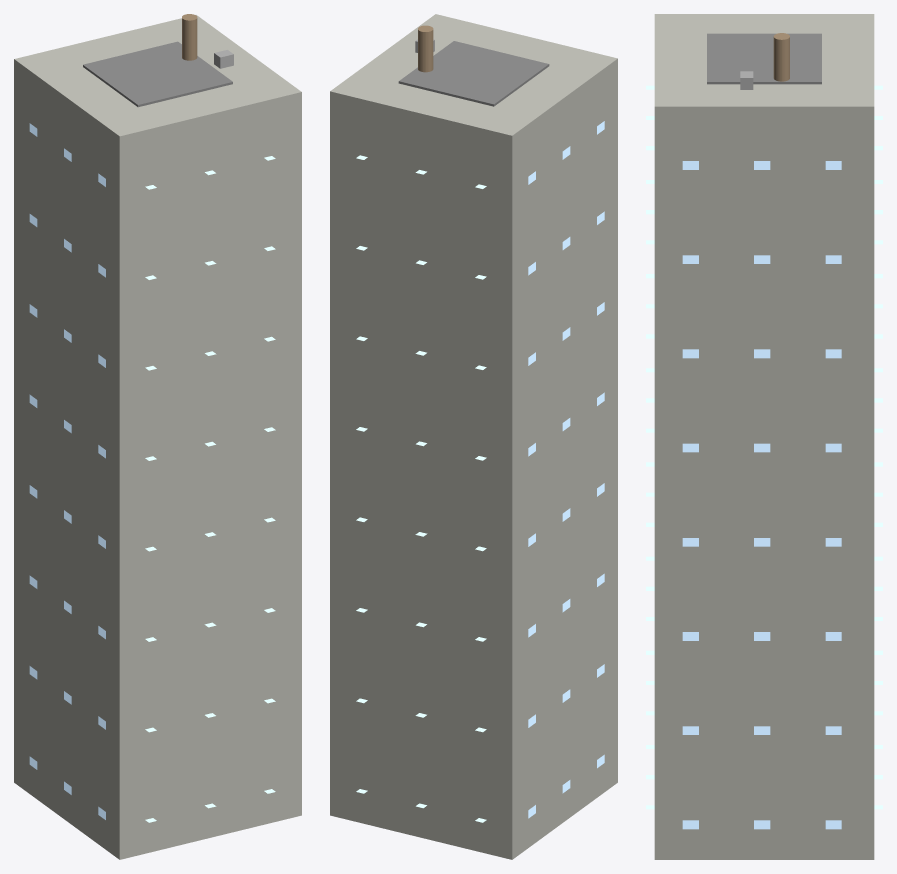
File: residential_2.glb
The picture shows the model from 3 angles, left to right: view 1: azimuth 30°, elevation 25°; view 2: azimuth 150°, elevation 25°; view 3: azimuth 270°, elevation 25°; orthographic projection. The views are drawn at different scales.
Parts seen in each view (by area): view 1: residential_2_body, residential_2_roof, residential_2_tower; view 2: residential_2_body, residential_2_roof, residential_2_tower; view 3: residential_2_body, residential_2_roof, residential_2_tower.
Boxes of the visible parts, x1,y1,x2,y2 form: residential_2_body: [14, 15, 301, 859]; residential_2_roof: [83, 41, 232, 107]; residential_2_tower: [182, 14, 197, 60]; residential_2_body: [330, 14, 617, 859]; residential_2_roof: [398, 41, 549, 106]; residential_2_tower: [418, 25, 433, 72]; residential_2_body: [654, 14, 874, 859]; residential_2_roof: [707, 33, 821, 84]; residential_2_tower: [773, 33, 789, 81].
Size of the model in its own units: 6.76 by 27.15 by 7.29.
